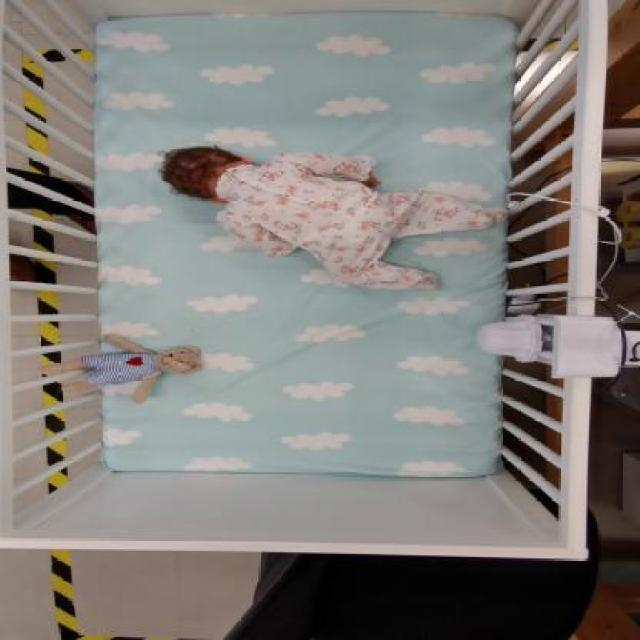baby: (160, 144, 516, 288)
